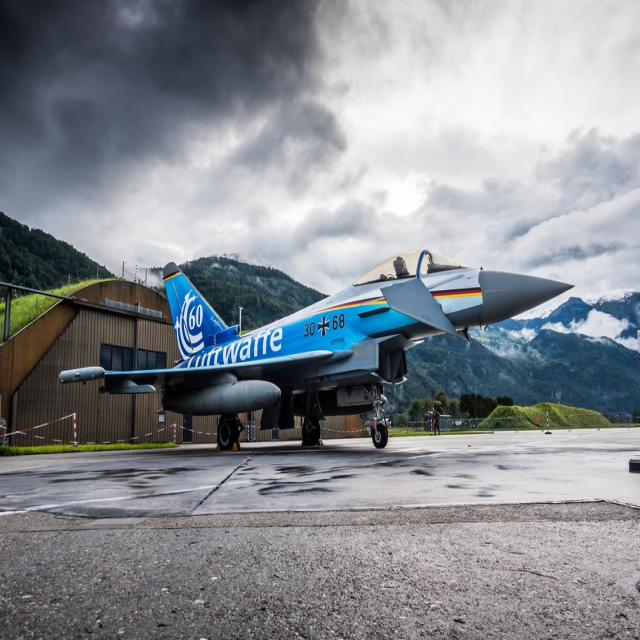MIL_Plane: (58, 250, 576, 450)
